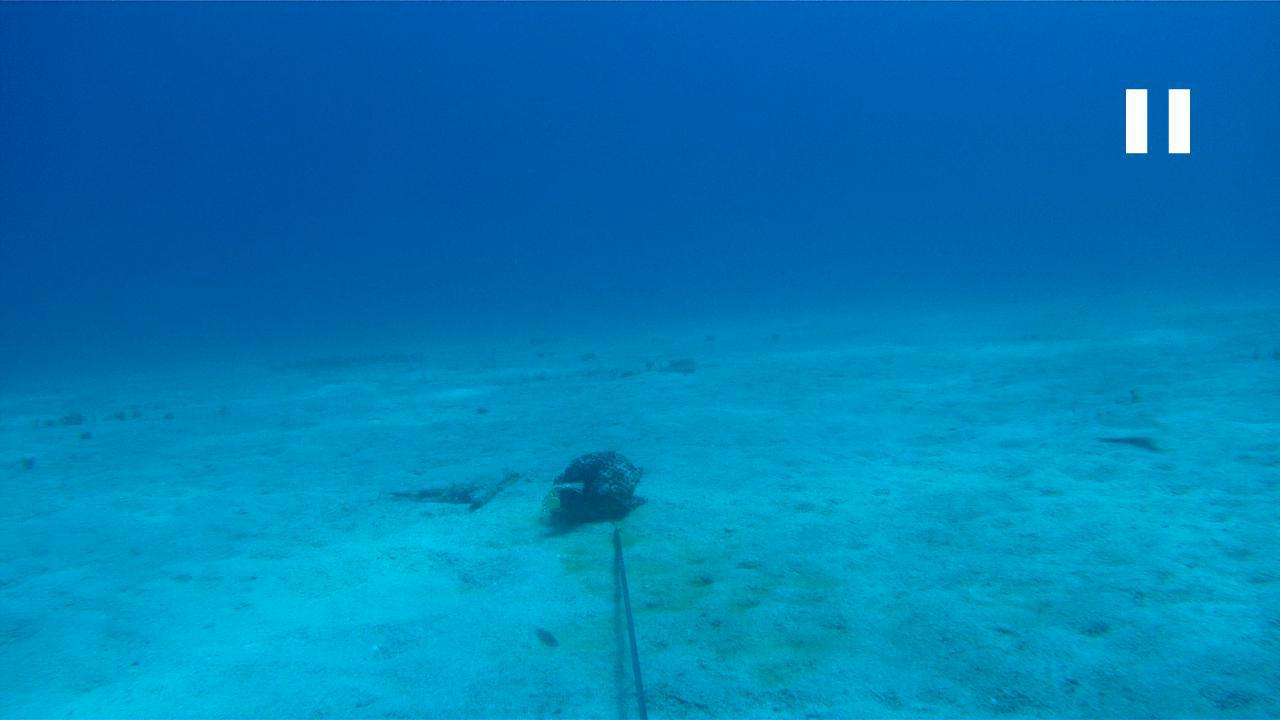bothus: (1090, 404, 1165, 432)
